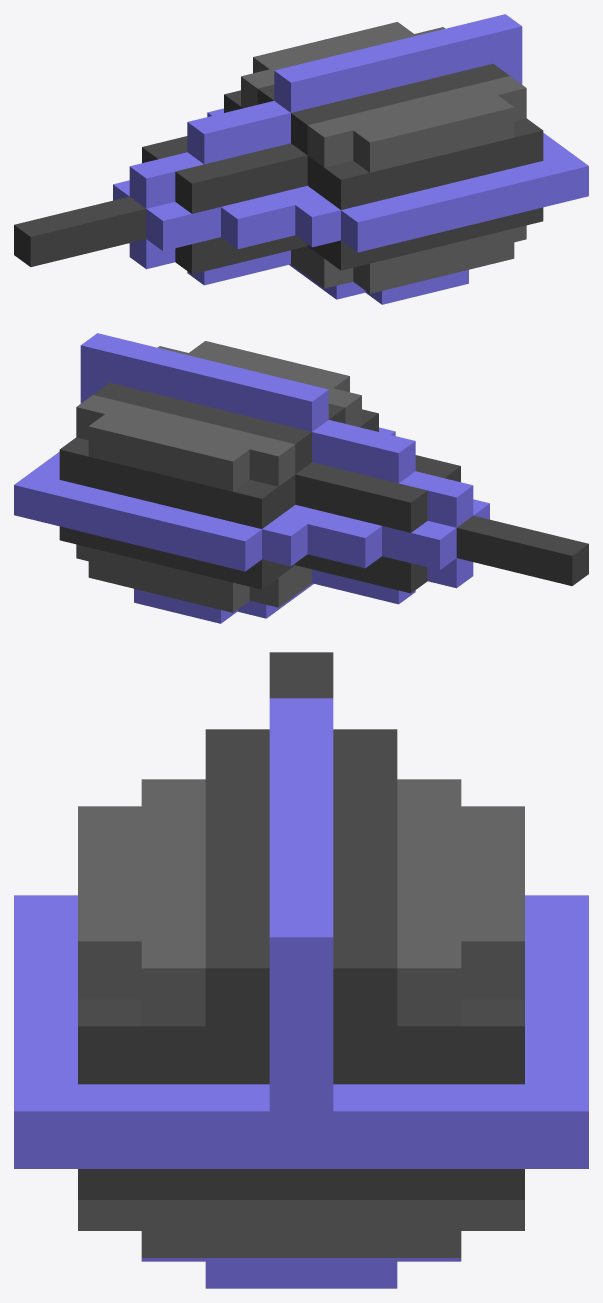
File: weapon 1.obj
The picture shows the model from 3 angles, top to bottom: view 1: azimuth 30°, elevation 25°; view 2: azimuth 150°, elevation 25°; view 3: azimuth 270°, elevation 25°; orthographic projection. The views are drawn at different scales.
Size of the model in its own units: 1.7 by 0.7 by 0.9.
1 material, 1 textured.
